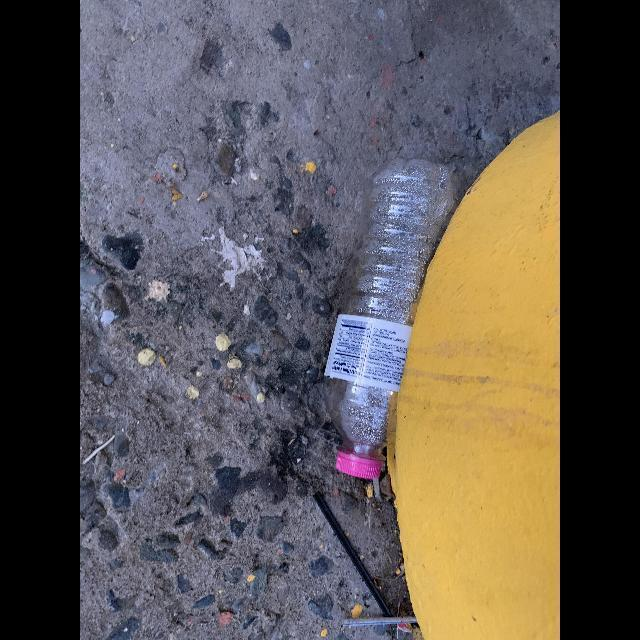Plastic: (323, 159, 453, 479), (313, 492, 393, 616), (335, 455, 381, 479), (343, 617, 417, 627)
